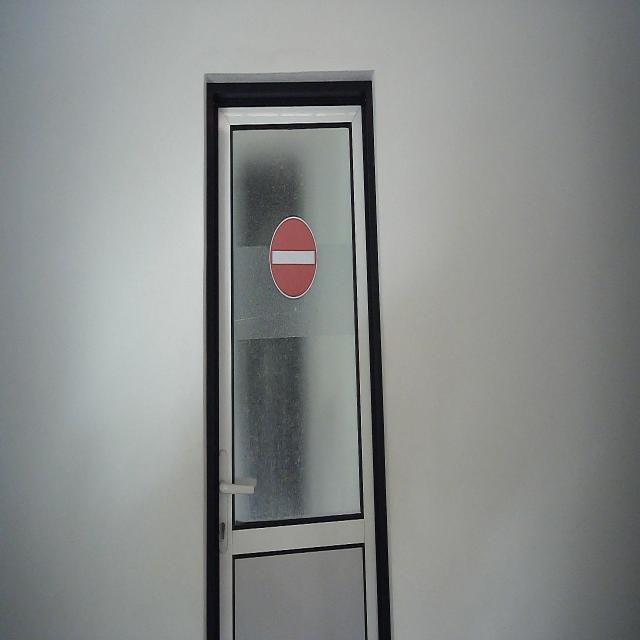no_entry: (268, 214, 318, 302)
